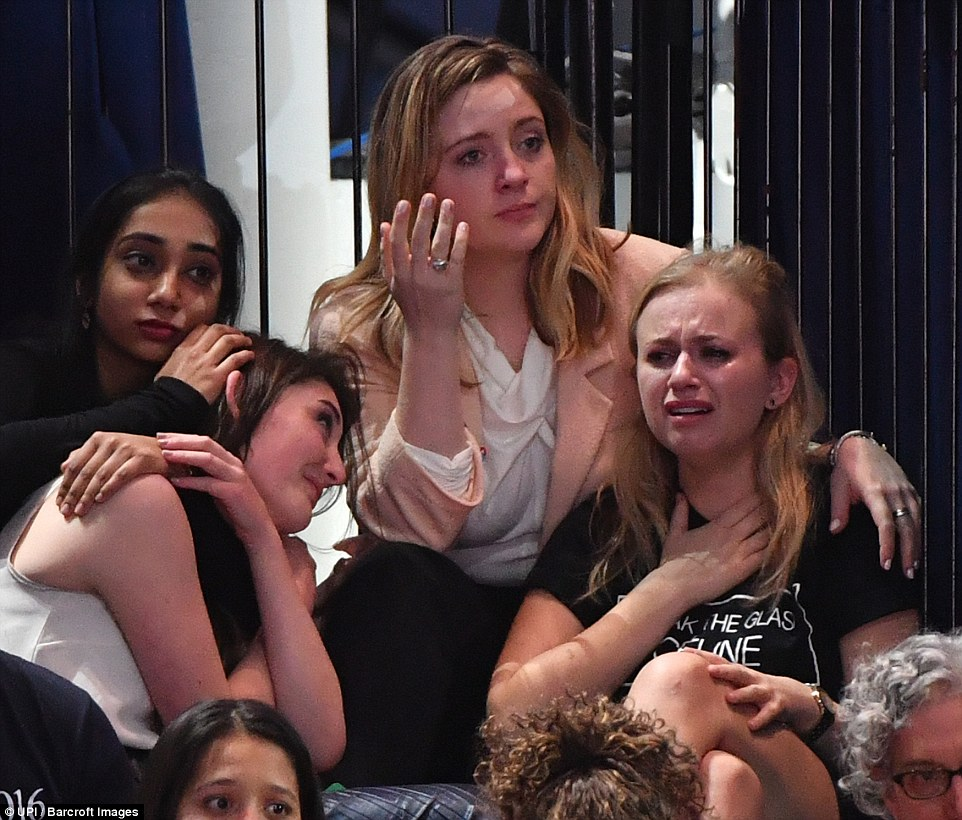sad: (432, 78, 565, 240), (631, 297, 763, 457)
